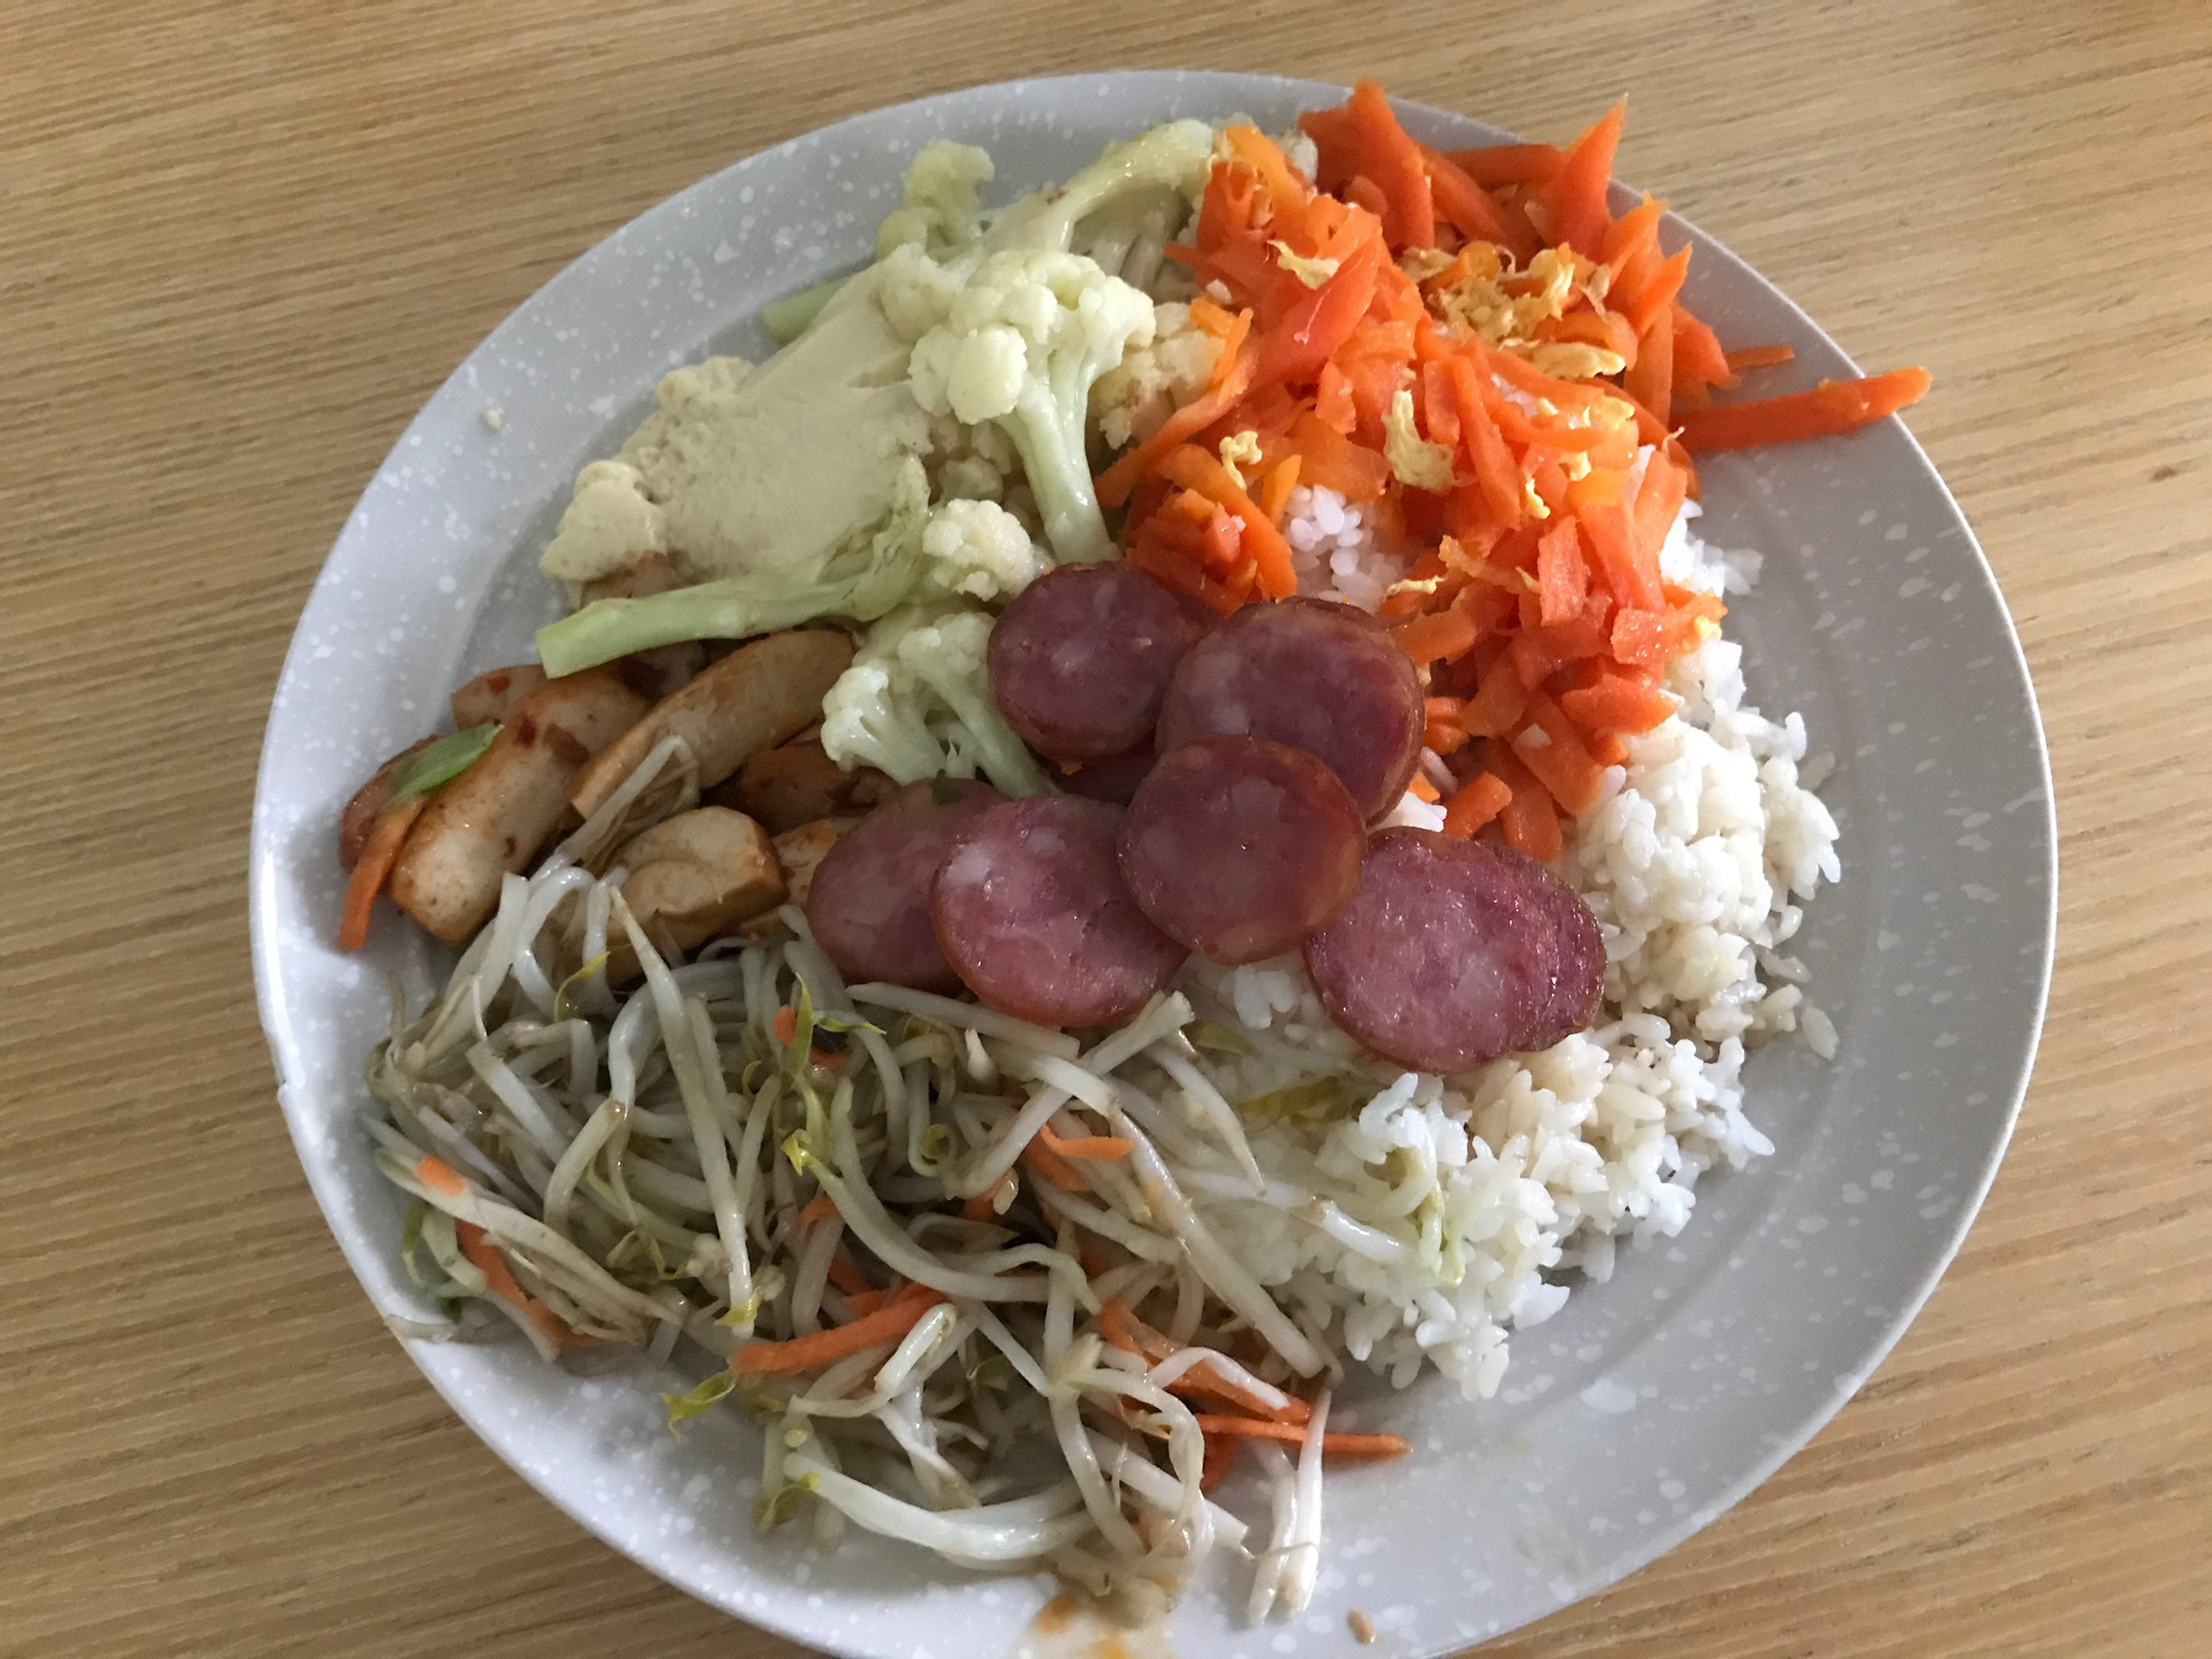carrot_eggs: (1126, 94, 1706, 817)
chinese_sausage: (816, 563, 1600, 1063)
mung_bean_sprouts: (356, 922, 1328, 1581)
rice: (1306, 1058, 1740, 1377)
